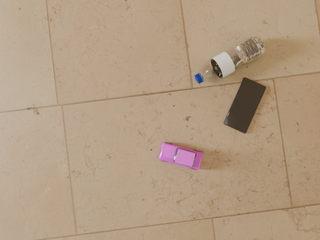bottle: (195, 35, 266, 83)
phone: (224, 78, 266, 133)
toy_car: (159, 142, 203, 170)
